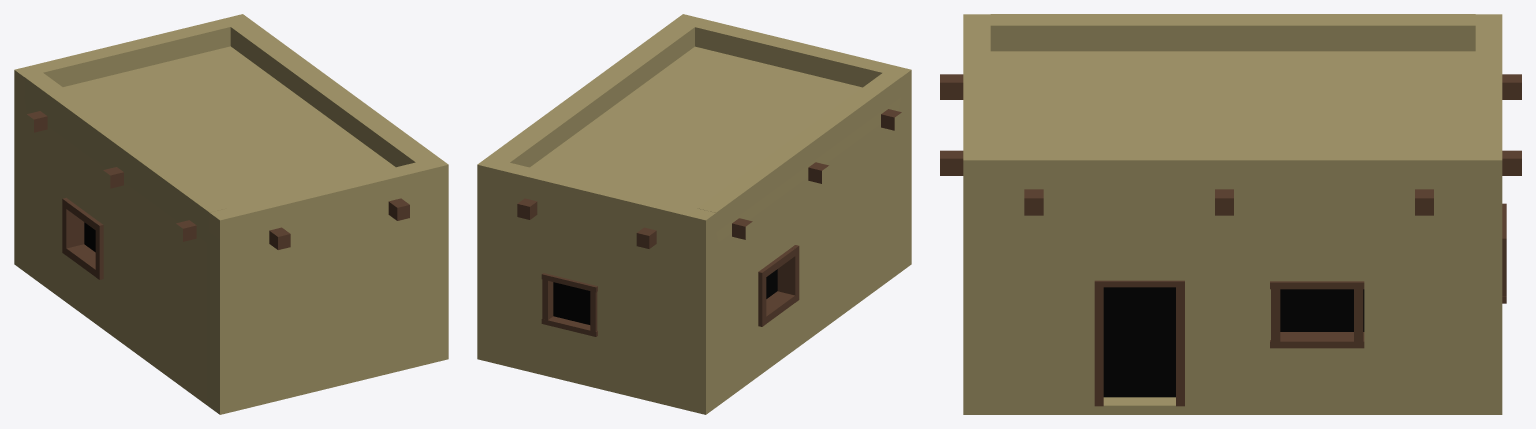
The model's file is Desert House Small.fbx.
The picture shows the model from 3 angles, left to right: view 1: azimuth 30°, elevation 25°; view 2: azimuth 150°, elevation 25°; view 3: azimuth 270°, elevation 25°; orthographic projection. The views are drawn at different scales.
Visible parts, largest first — view 1: Cube; view 2: Cube; view 3: Cube.
Boxes of the visible parts, box(x1,y1,x2,y2) form: Cube: box(14, 14, 448, 414); Cube: box(477, 14, 911, 414); Cube: box(940, 14, 1521, 414).
Bounding box in the file's own units: 288 × 209 × 431.
